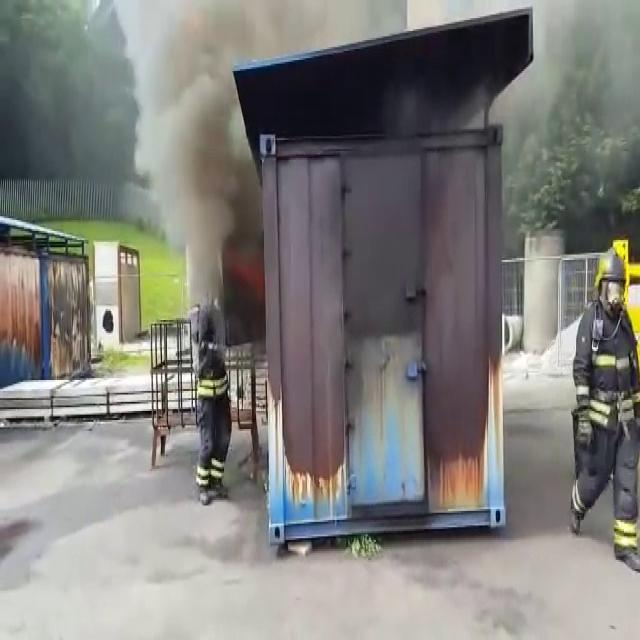Smoke: (130, 11, 277, 324), (293, 1, 405, 26)
